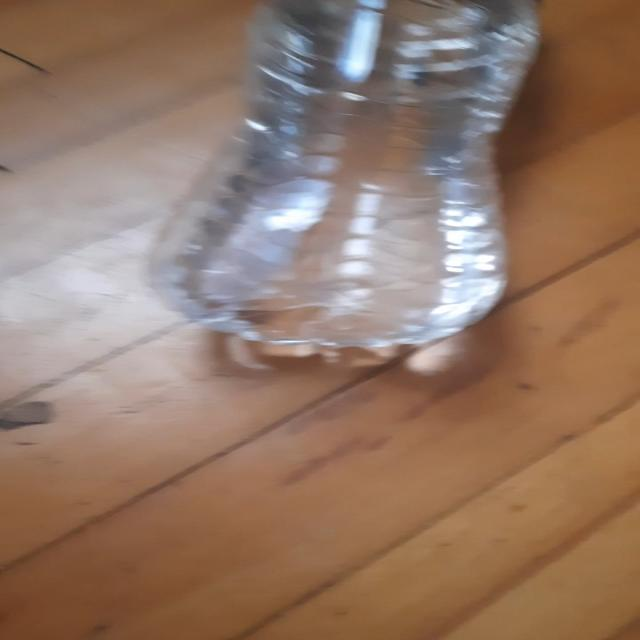Plastic: (147, 0, 545, 372)
